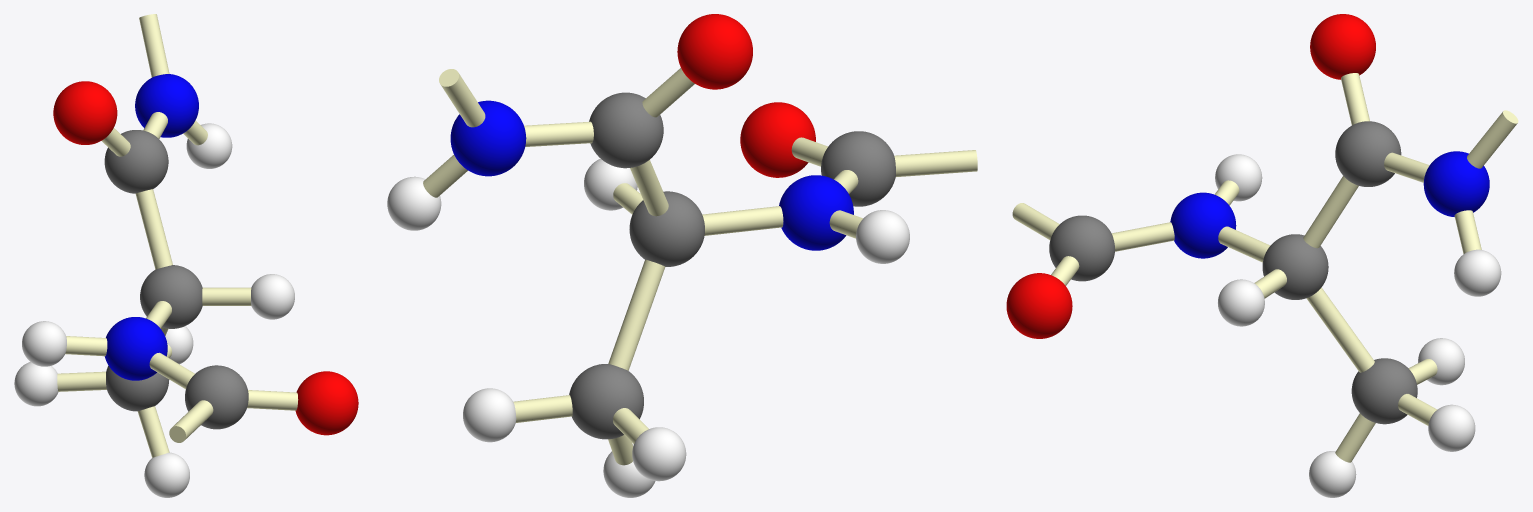
The model's file is conformation.gltf.
3 views of the same model, side by side, from view 1: azimuth 30°, elevation 25°; view 2: azimuth 150°, elevation 25°; view 3: azimuth 270°, elevation 25° (orthographic). The views are drawn at different scales.
Parts seen in each view (by area): view 1: ?????????6, ?????????2, ?????????3, ?????????5, ?????????1, ?????????13, ?????????4, ?????????9, ?????????7, ?????????10, ?????????8, ?????????12 (+14 smaller); view 2: ?????????6, ?????????5, ?????????13, ?????????2, ?????????4, ?????????3, ?????????9, ?????????1, ?????????22, ?????????7, ?????????12, ?????????11 (+13 smaller); view 3: ?????????2, ?????????6, ?????????13, ?????????5, ?????????3, ?????????9, ?????????1, ?????????4, ?????????22, ?????????11, ?????????8, ?????????14 (+13 smaller).
Boxes of the visible parts, x1,y1,x2,y2 form: ?????????6: (53, 81, 117, 144); ?????????2: (295, 371, 358, 435); ?????????3: (104, 317, 167, 380); ?????????5: (104, 130, 168, 193); ?????????1: (185, 365, 248, 429); ?????????13: (135, 74, 198, 137); ?????????4: (140, 265, 202, 328); ?????????9: (106, 365, 169, 411); ?????????7: (22, 321, 66, 366); ?????????10: (144, 452, 189, 497); ?????????8: (251, 274, 294, 319); ?????????12: (14, 362, 58, 406); ?????????6: (677, 14, 752, 89); ?????????5: (589, 92, 663, 168); ?????????13: (450, 100, 526, 176); ?????????2: (740, 102, 815, 177); ?????????4: (629, 191, 704, 266); ?????????3: (779, 175, 853, 250); ?????????9: (569, 364, 643, 439); ?????????1: (821, 131, 895, 206); ?????????22: (608, 259, 665, 370); ?????????7: (856, 210, 909, 263); ?????????12: (632, 427, 686, 481); ?????????11: (463, 388, 516, 442); ?????????2: (1006, 273, 1072, 338); ?????????6: (1310, 14, 1375, 79); ?????????13: (1423, 151, 1489, 216); ?????????5: (1335, 121, 1401, 186); ?????????3: (1170, 192, 1236, 258); ?????????9: (1351, 358, 1417, 424); ?????????1: (1049, 215, 1115, 281); ?????????4: (1262, 234, 1328, 299); ?????????22: (1306, 287, 1374, 372); ?????????11: (1428, 404, 1475, 451); ?????????8: (1218, 279, 1264, 326); ?????????14: (1454, 249, 1501, 296).
Size of the model in its own units: 40.41 by 51.46 by 54.27.
